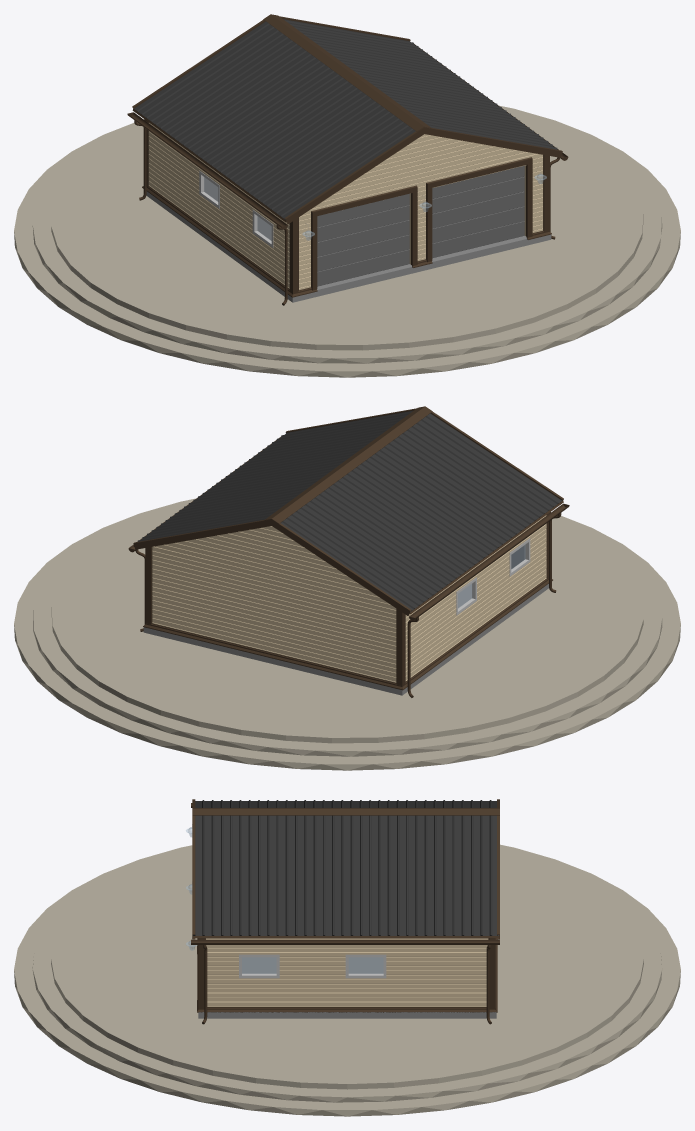
File: garage_8x8.glb
3 renders of one model, top to bottom at view 1: azimuth 30°, elevation 25°; view 2: azimuth 150°, elevation 25°; view 3: azimuth 270°, elevation 25°, orthographic.
Visible parts, largest first — view 1: ground, roof, walls, trim, gate, foundation, glass, windows; view 2: ground, roof, walls, trim, foundation, windows; view 3: ground, roof, walls, trim, foundation, glass, windows.
Part boxes in pixels (x1,y1,x2,y2): ground: [14, 105, 680, 377]; roof: [133, 19, 557, 219]; walls: [148, 123, 542, 289]; trim: [127, 14, 568, 305]; gate: [317, 165, 524, 286]; foundation: [146, 177, 551, 302]; glass: [204, 174, 546, 240]; windows: [199, 170, 273, 247]; ground: [14, 498, 680, 770]; roof: [137, 410, 562, 611]; walls: [152, 515, 546, 682]; trim: [128, 406, 569, 697]; foundation: [143, 584, 548, 695]; windows: [456, 538, 530, 615]; ground: [14, 844, 680, 1116]; roof: [193, 800, 498, 935]; walls: [206, 938, 488, 1006]; trim: [191, 799, 499, 1024]; foundation: [198, 957, 496, 1018]; glass: [186, 827, 383, 973]; windows: [239, 954, 386, 978].
Bounding box in the file's own units: 18 × 4.97 × 18.
